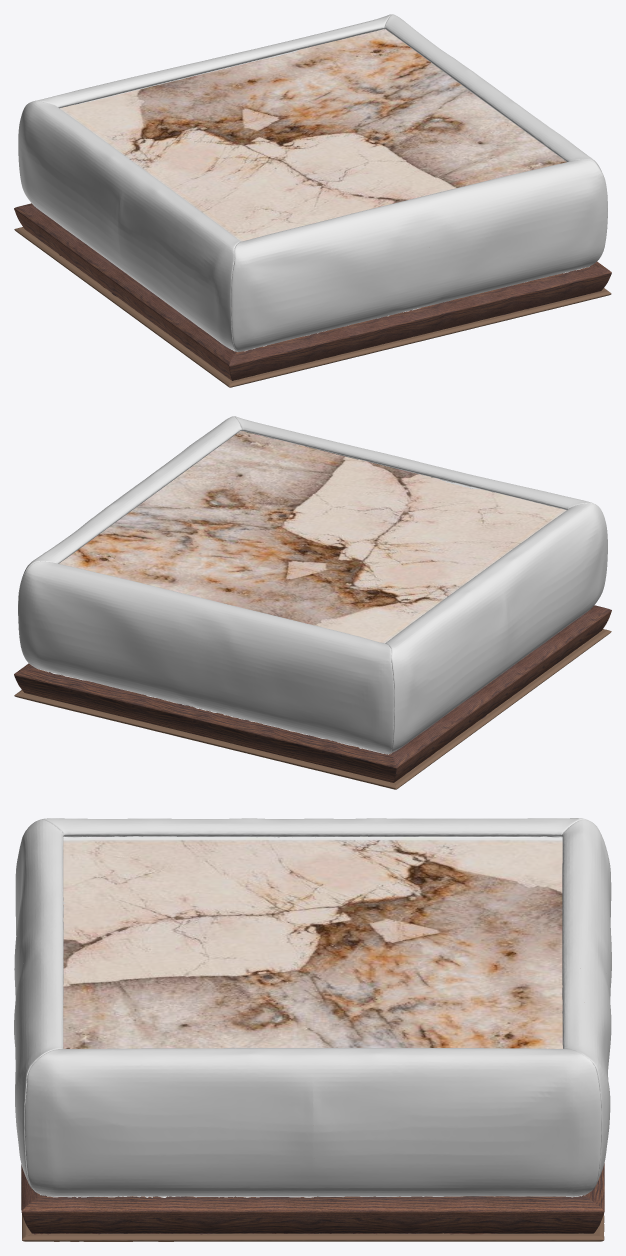
File: St_Hilker_Dusseldorf_ct.glb
The picture shows the model from 3 angles, top to bottom: view 1: azimuth 30°, elevation 25°; view 2: azimuth 150°, elevation 25°; view 3: azimuth 270°, elevation 25°; orthographic projection. The views are drawn at different scales.
Parts seen in each view (by area): view 1: Dusseldorf ct; view 2: Dusseldorf ct; view 3: Dusseldorf ct.
Boxes of the visible parts, x1,y1,x2,y2 form: Dusseldorf ct: (14,14,611,387); Dusseldorf ct: (14,416,611,789); Dusseldorf ct: (14,818,611,1241).
Bounding box in the file's own units: 0.9803 × 0.3388 × 0.9618.
5 materials, 2 textured.
